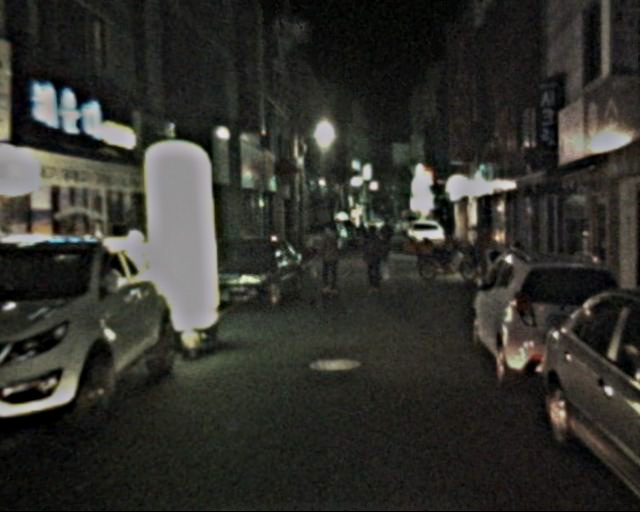person: (315, 221, 346, 297), (357, 222, 388, 297)
